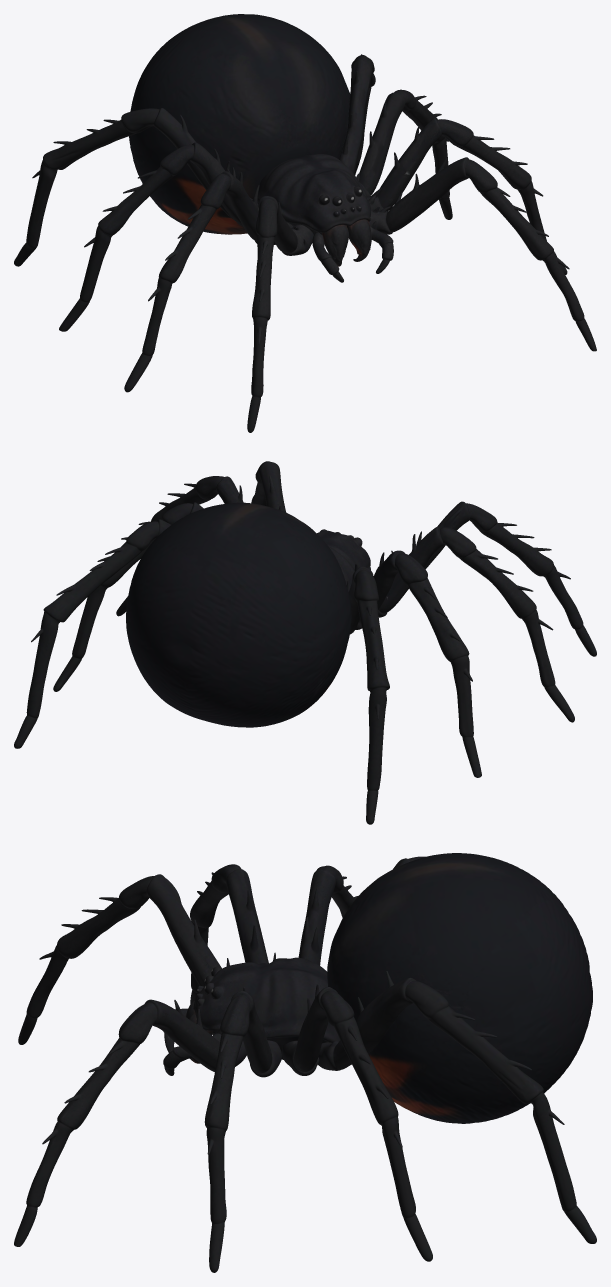
Rendered from arana.glb.
The picture shows the model from 3 angles, top to bottom: view 1: azimuth 30°, elevation 25°; view 2: azimuth 150°, elevation 25°; view 3: azimuth 270°, elevation 25°; orthographic projection. The views are drawn at different scales.
Parts seen in each view (by area): view 1: Mesh_0.002; view 2: Mesh_0.002; view 3: Mesh_0.002.
Boxes of the visible parts, x1=… form: Mesh_0.002: x1=14, y1=14, x2=596, y2=432; Mesh_0.002: x1=14, y1=461, x2=596, y2=824; Mesh_0.002: x1=14, y1=853, x2=596, y2=1272.
Bounding box in the file's own units: 14.51 × 7.21 × 13.57.
1 material, 1 textured.
